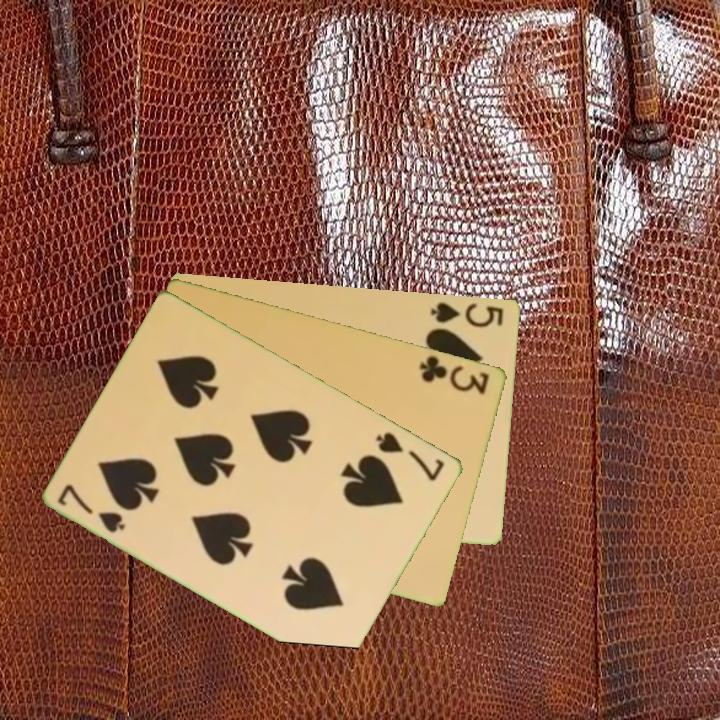3c: (416, 351, 493, 397)
5s: (427, 298, 507, 330)
7s: (372, 428, 448, 484), (54, 480, 129, 536)
